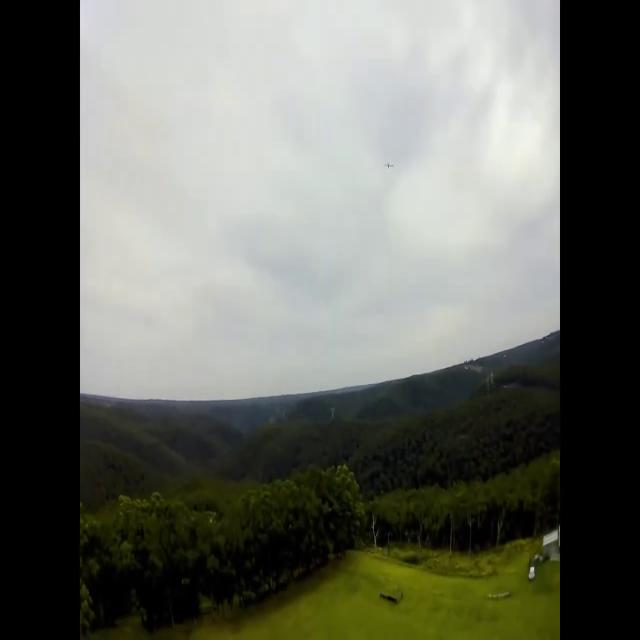iha: (387, 163, 391, 169)
